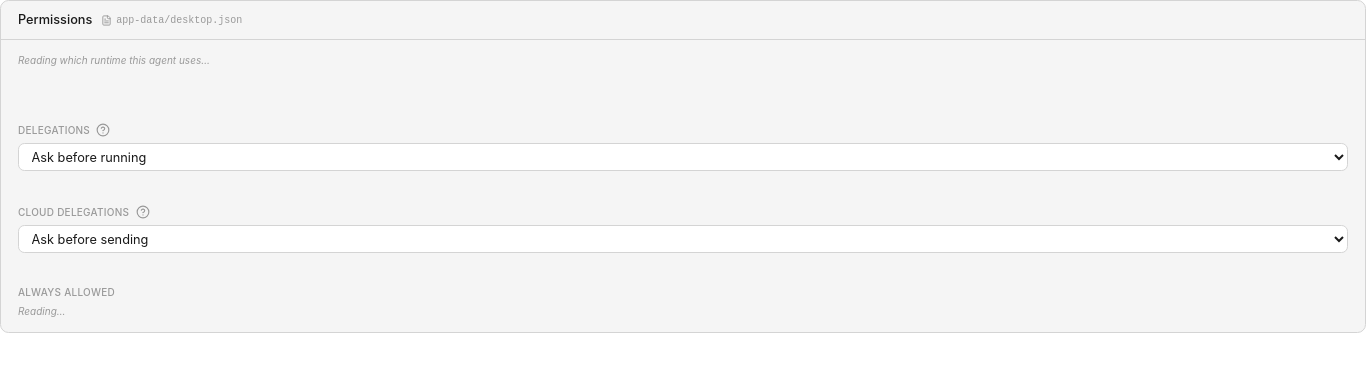
Test: delegation standing permissions › keeps a refused cloud grant on Ask and shows the save error next to the control
Select "Send without asking" in the dropdown labelled "Cloud delegations". click: (683, 239)
box: 18,226 -> 1348,253
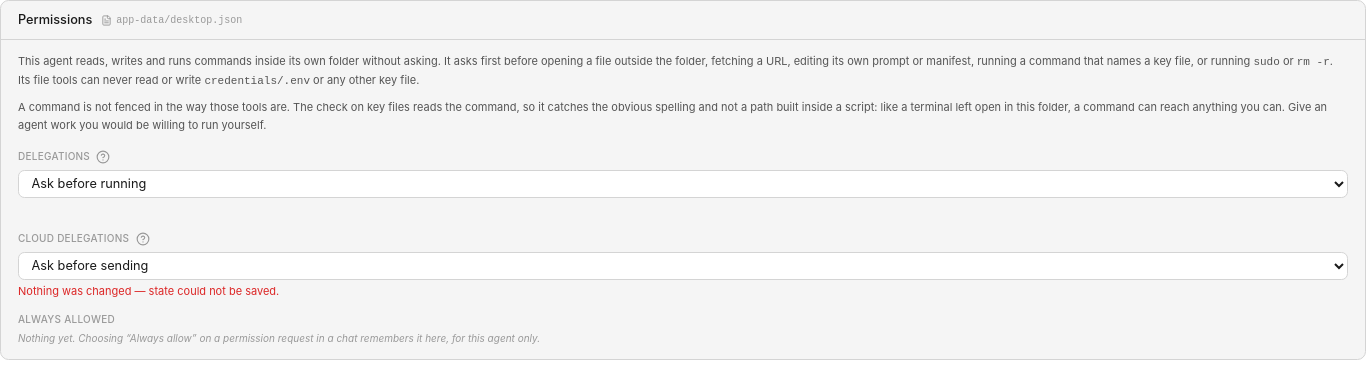
Expected: the dropdown labelled "Cloud delegations" is enabled, 18,252 -> 1348,280
Expected: the message shows "Nothing was changed", 18,284 -> 279,298
